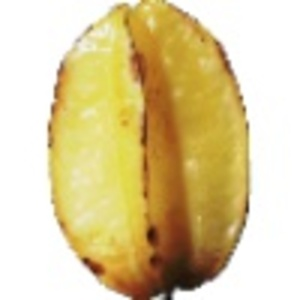carambola: (47, 1, 253, 300)
